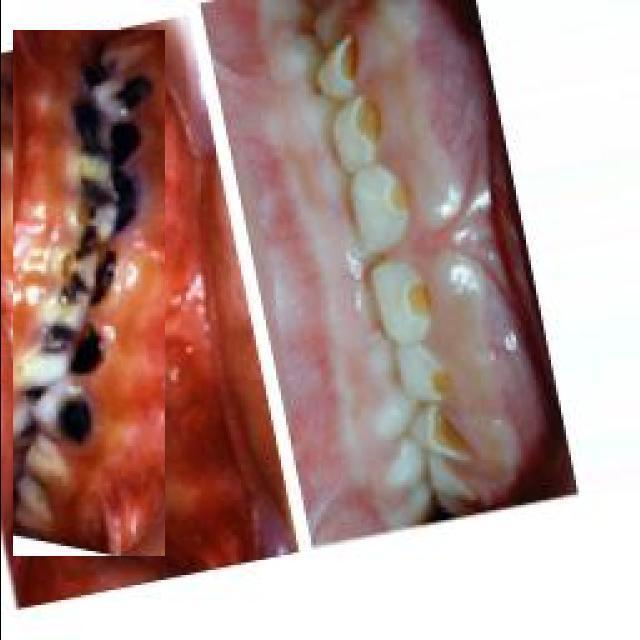caries: (12, 30, 164, 556)
